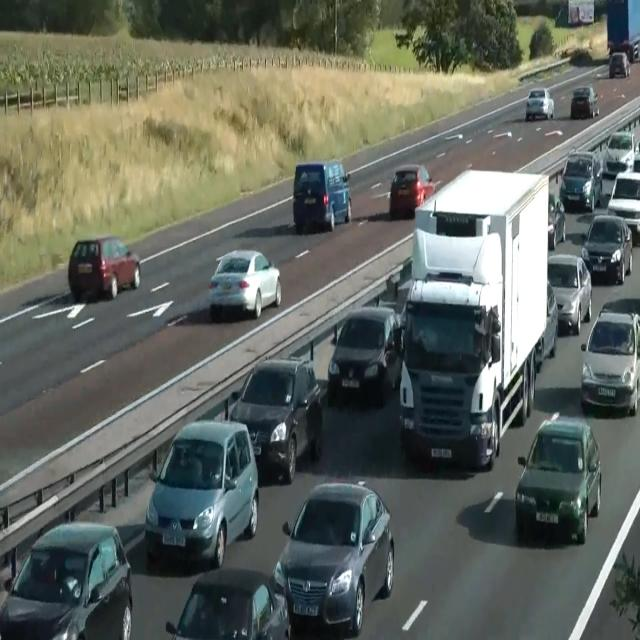bus: (272, 480, 394, 636), (0, 520, 132, 639), (225, 356, 323, 484), (515, 412, 601, 544), (165, 567, 291, 639), (327, 306, 403, 401), (580, 308, 640, 416), (207, 249, 281, 319), (68, 235, 140, 302), (580, 213, 632, 284), (547, 253, 591, 335), (556, 150, 602, 212), (388, 164, 436, 218), (606, 171, 640, 245), (599, 297, 639, 355), (602, 130, 639, 178), (544, 279, 558, 358), (548, 192, 566, 250), (525, 87, 554, 121), (571, 85, 599, 119), (608, 33, 640, 60), (609, 52, 630, 78), (628, 32, 640, 61)
jeep: (144, 418, 259, 568), (292, 159, 352, 233)
minibus: (398, 167, 550, 469), (606, 0, 640, 62), (568, 0, 594, 26)
